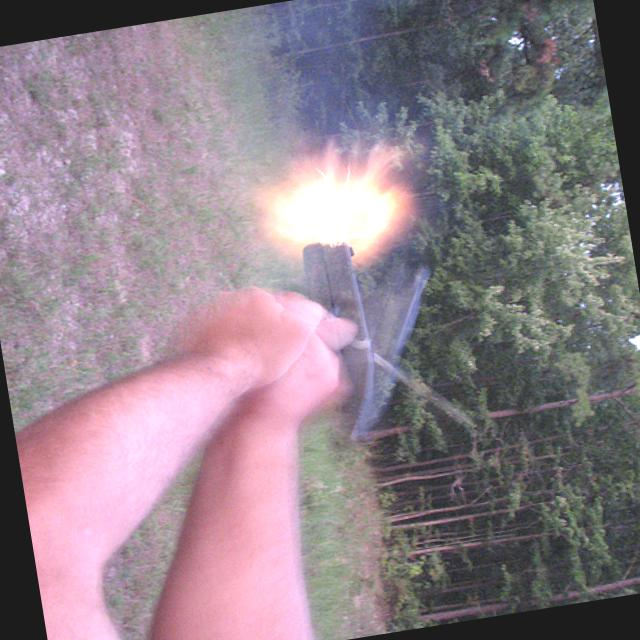handgun: (249, 228, 390, 428)
